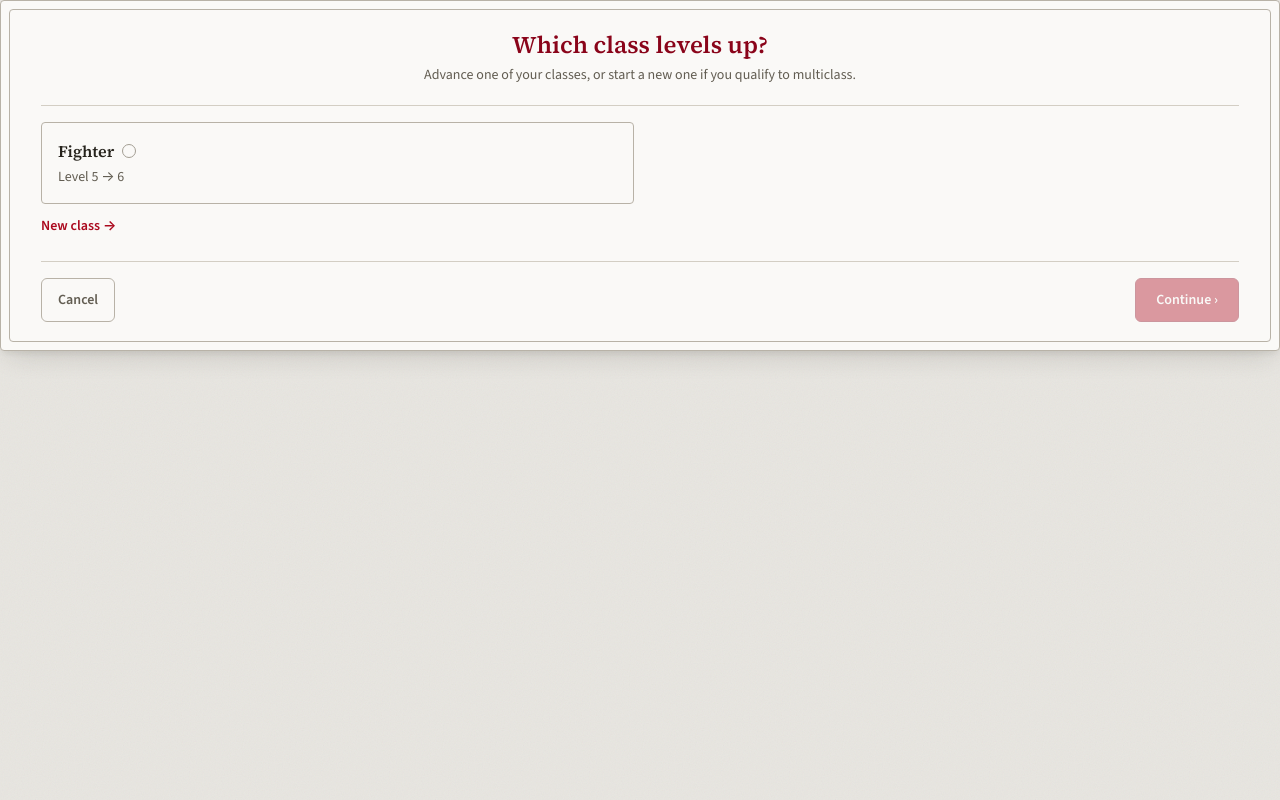
Test: ClassChoiceStep › opening the New class drill-in reveals the new-class options and a back control
Click the button "New class →": {"x": 79, "y": 226} [41,216,116,236]
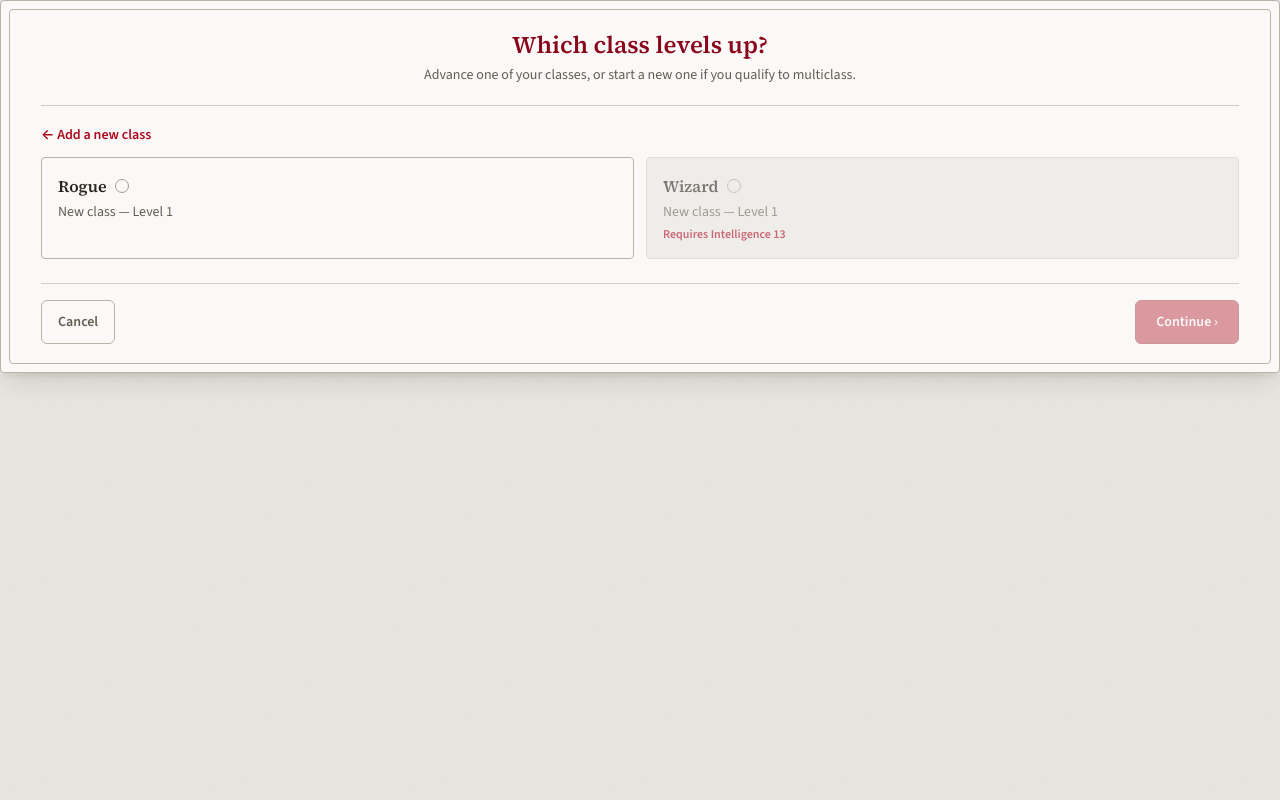
Expected: the radio button labelled "Rogue" is enabled, [41,157,634,259]
Expected: the radio button labelled "Wizard" is disabled, [646,157,1239,259]
Expected: the text "Requires Intelligence 13" is shown, [663,226,786,242]
